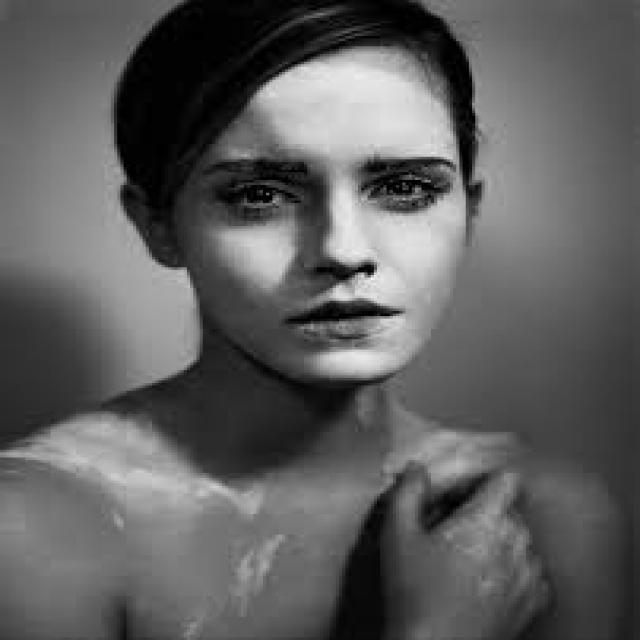natural: (204, 120, 481, 400)
